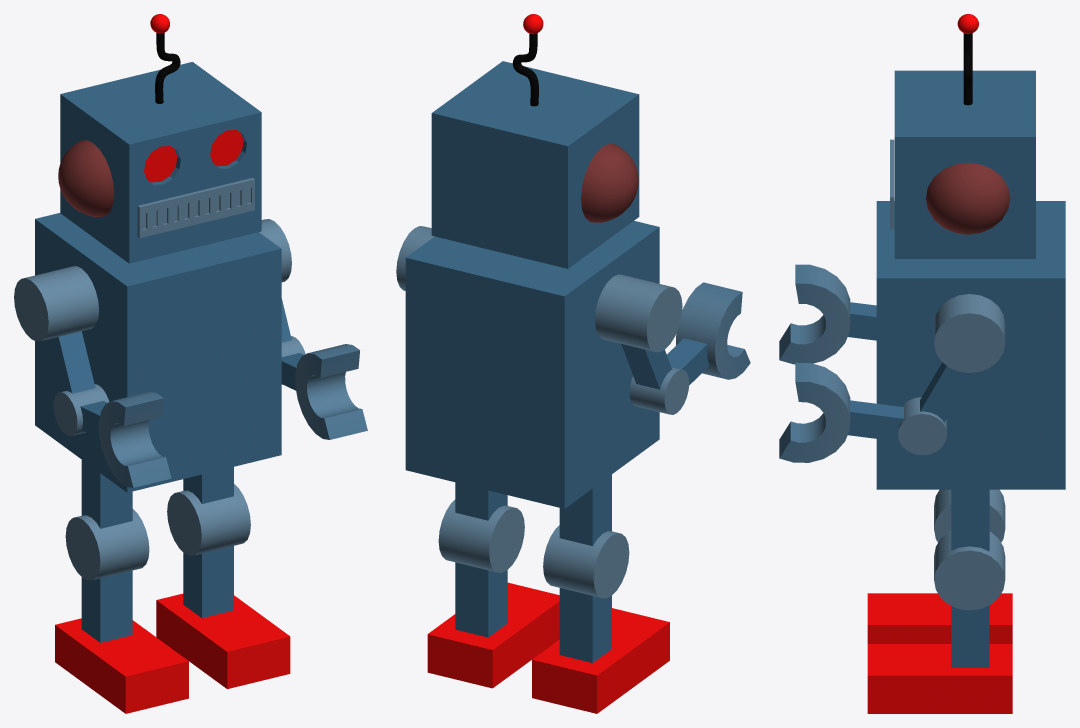
File: SM_Robot.fbx
3 renders of one model, left to right at view 1: azimuth 30°, elevation 25°; view 2: azimuth 150°, elevation 25°; view 3: azimuth 270°, elevation 25°, orthographic. The views are drawn at different scales.
Parts seen in each view (by area): view 1: Robot; view 2: Robot; view 3: Robot.
Part boxes in pixels (x1,y1,x2,y2): Robot: (14, 14, 367, 713); Robot: (396, 14, 750, 713); Robot: (779, 14, 1065, 713).
Size of the model in its own units: 16.69 by 42.04 by 16.56.
